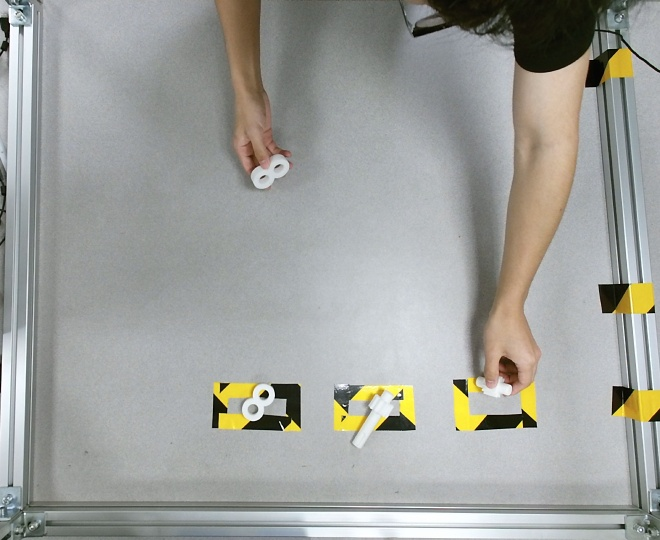stage_1: (251, 154, 290, 188)
